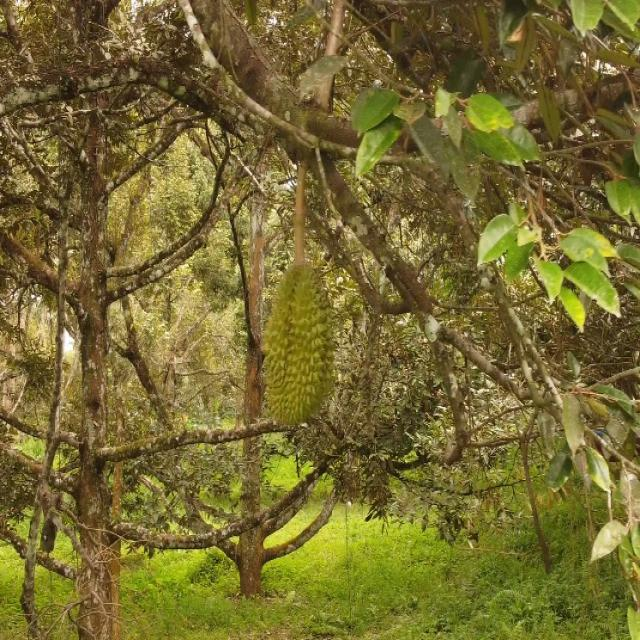immature: (258, 262, 338, 426)
